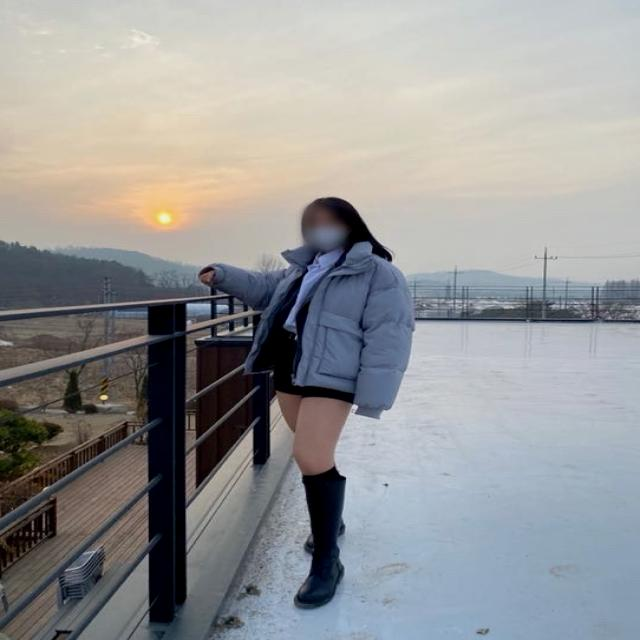padding: (195, 240, 413, 420)
skirt: (268, 329, 370, 405)
